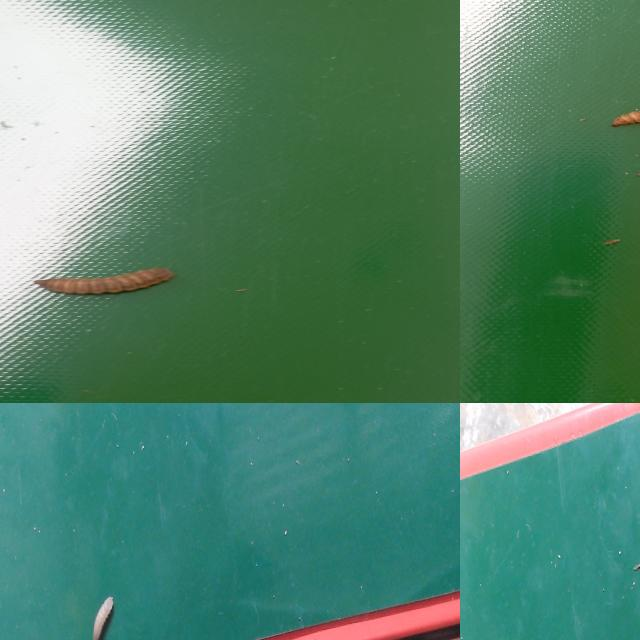Maggot: (37, 269, 176, 298), (90, 597, 115, 640), (611, 109, 640, 130)
